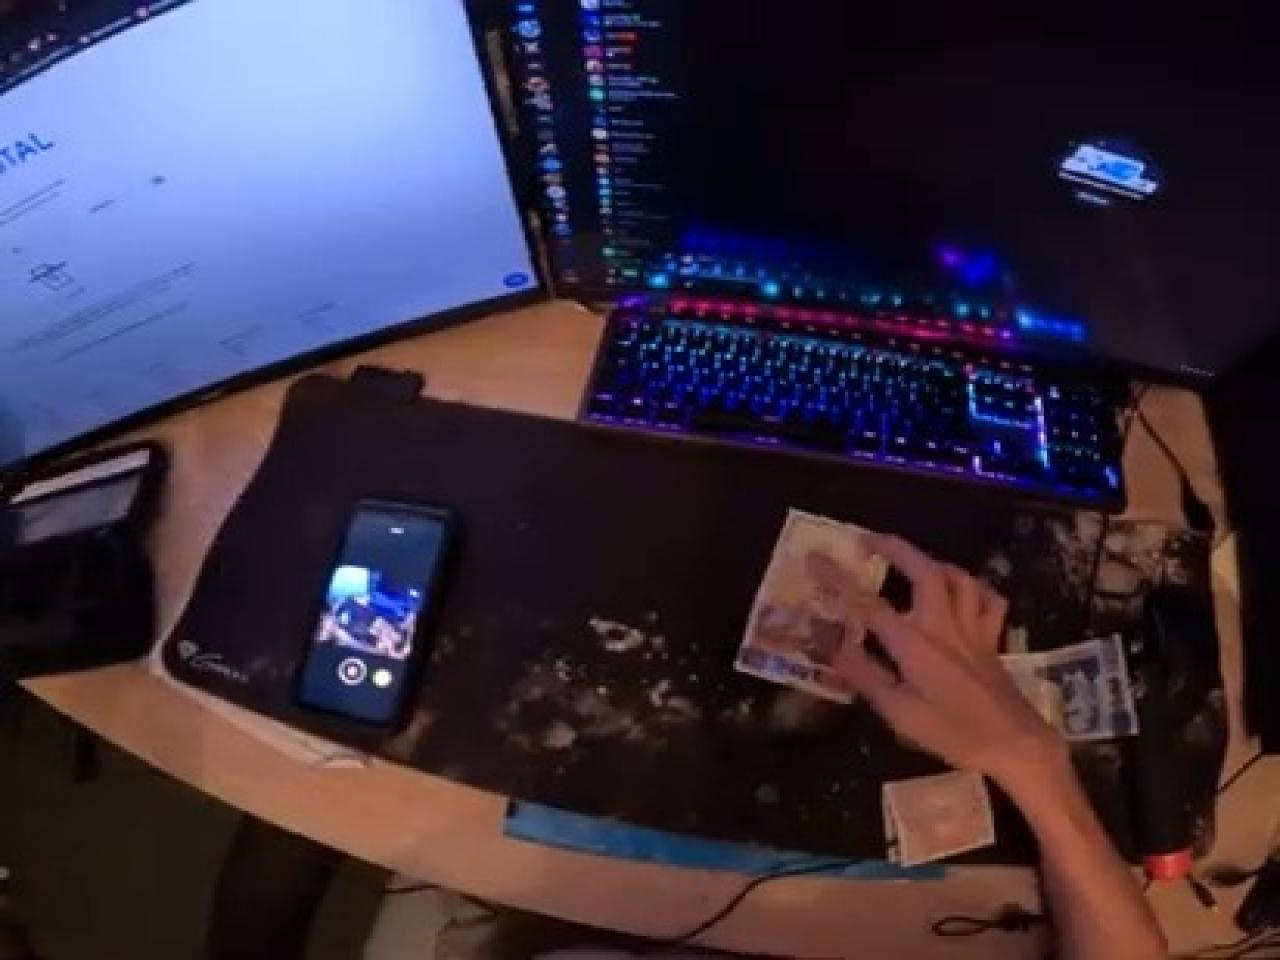50leva: (733, 512, 1007, 720)
